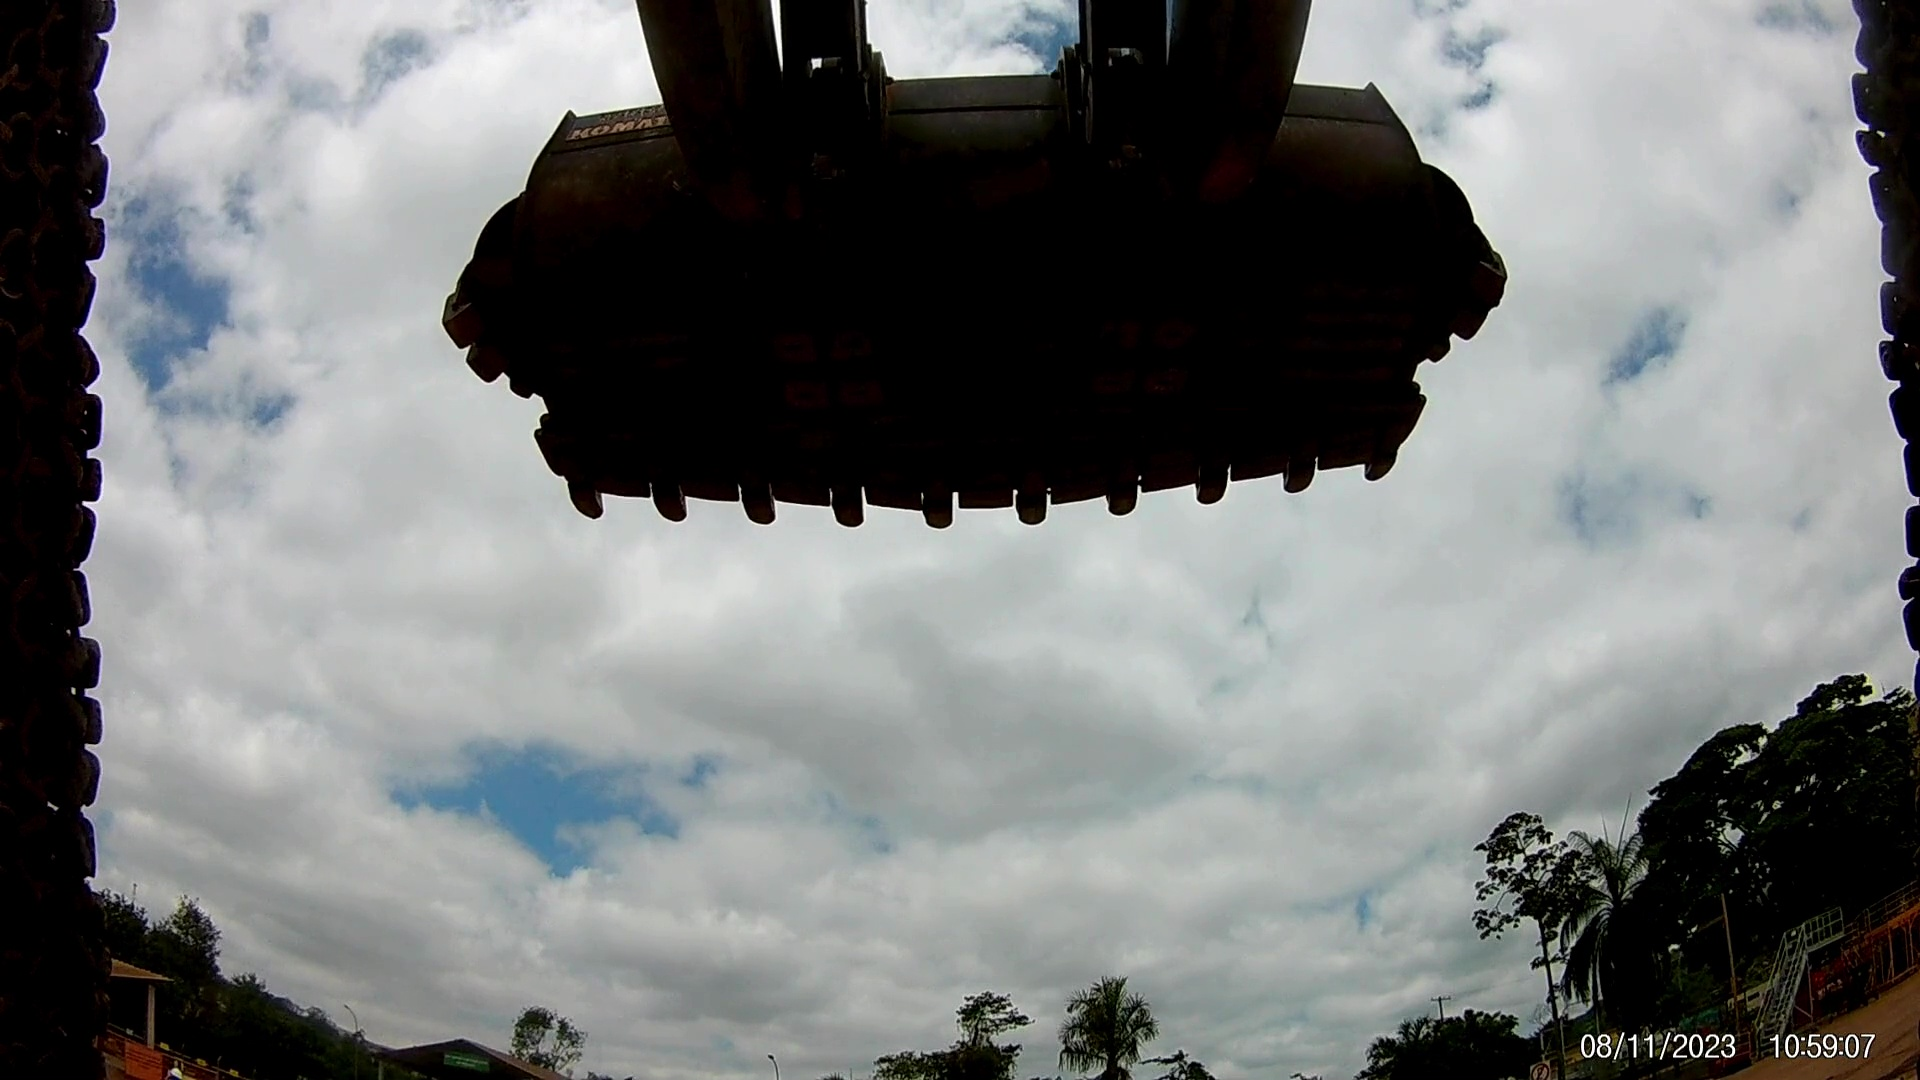FPS: (1001, 462, 1065, 549), (911, 460, 973, 543), (731, 465, 794, 543), (823, 469, 889, 538), (636, 462, 698, 534), (545, 473, 625, 529), (1270, 443, 1331, 512), (1104, 460, 1156, 535), (1197, 443, 1242, 517), (1356, 431, 1404, 493)
